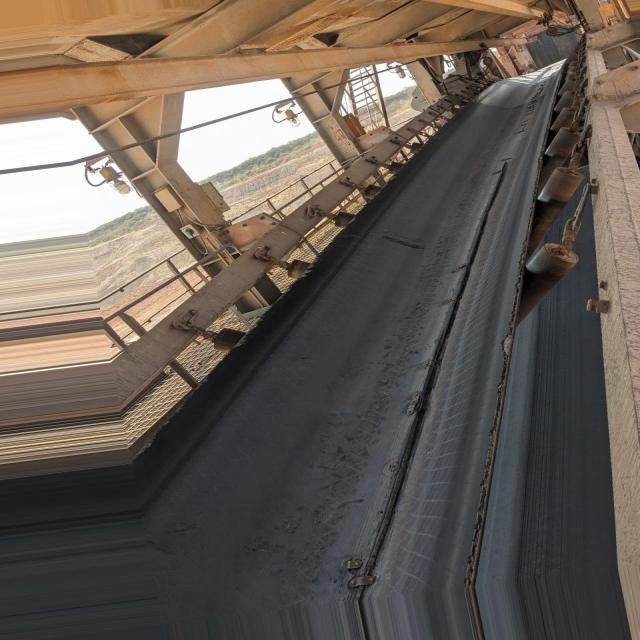Roller: (516, 117, 582, 332)
Tear: (340, 163, 518, 583)
